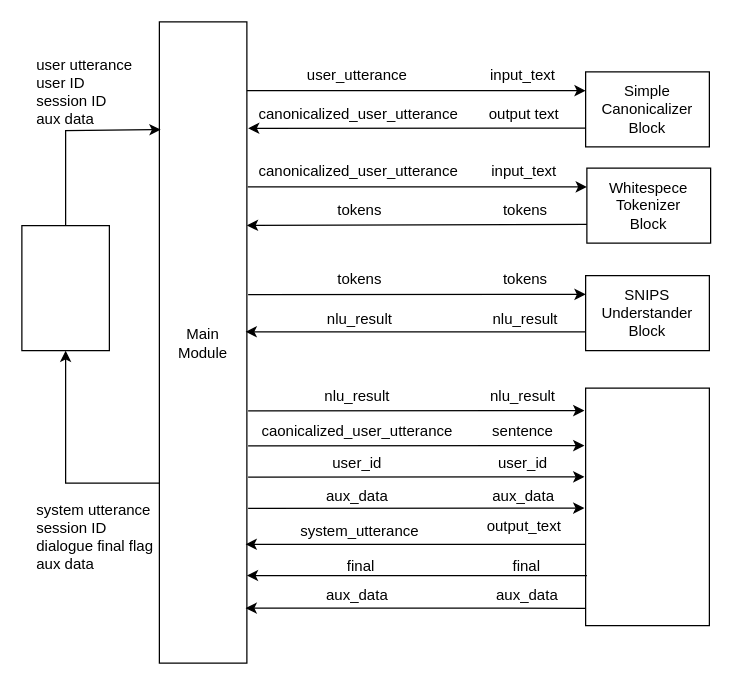
The diagram is 733 pixels wide and 685 high, and some of its shapes have lost their labels. The shapes that lost their labels are listed below. From the top down, each one's box as (x1, y1, x2, y2) in pixels, then its label:
(21, 224, 109, 351): Fontend or Other App
(584, 387, 709, 626): STN Manager Block
